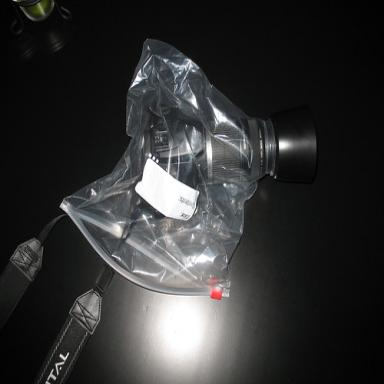plasticbag: (57, 38, 258, 303)
